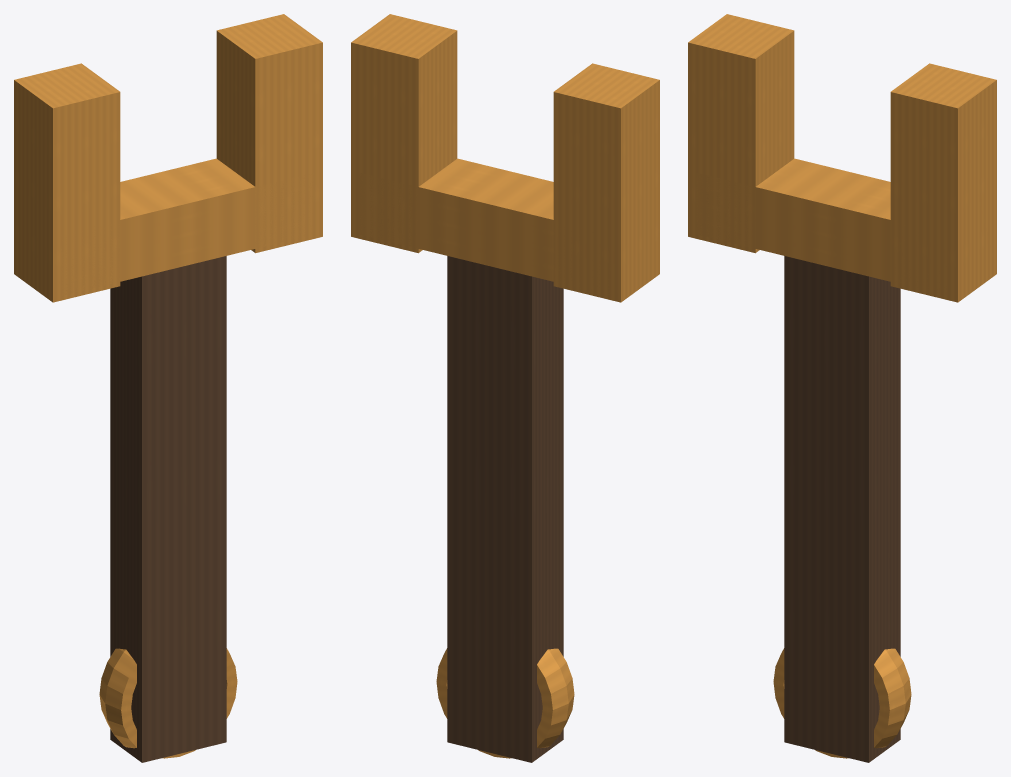
The model's file is atlas100-s011-a05.glb.
3 renders of one model, left to right at view 1: azimuth 30°, elevation 25°; view 2: azimuth 150°, elevation 25°; view 3: azimuth 330°, elevation 25°, orthographic.
Parts seen in each view (by area): view 1: atlas100-s011-a05:part-000, atlas100-s011-a05:part-001, atlas100-s011-a05:part-002, atlas100-s011-a05:part-003, atlas100-s011-a05:part-004; view 2: atlas100-s011-a05:part-000, atlas100-s011-a05:part-001, atlas100-s011-a05:part-002, atlas100-s011-a05:part-003, atlas100-s011-a05:part-004; view 3: atlas100-s011-a05:part-000, atlas100-s011-a05:part-002, atlas100-s011-a05:part-001, atlas100-s011-a05:part-003, atlas100-s011-a05:part-004.
Part boxes in pixels (x1,y1,x2,y2): atlas100-s011-a05:part-000: (110,256,226,762); atlas100-s011-a05:part-001: (14,63,120,302); atlas100-s011-a05:part-002: (216,14,322,253); atlas100-s011-a05:part-003: (61,158,313,295); atlas100-s011-a05:part-004: (99,648,237,758); atlas100-s011-a05:part-000: (447,256,563,762); atlas100-s011-a05:part-001: (553,63,659,302); atlas100-s011-a05:part-002: (351,14,457,253); atlas100-s011-a05:part-003: (359,158,612,294); atlas100-s011-a05:part-004: (436,648,574,758); atlas100-s011-a05:part-000: (784,256,900,762); atlas100-s011-a05:part-002: (890,63,996,302); atlas100-s011-a05:part-001: (688,14,794,253); atlas100-s011-a05:part-003: (696,158,948,293); atlas100-s011-a05:part-004: (773,648,911,758).
Size of the model in its own units: 0.3494 by 0.8572 by 0.0874.
2 materials, 2 textured.
